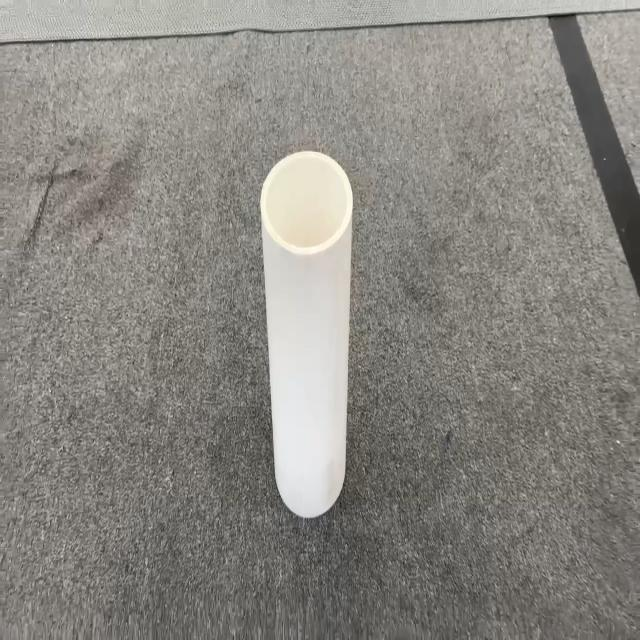coral: (259, 148, 353, 518)
